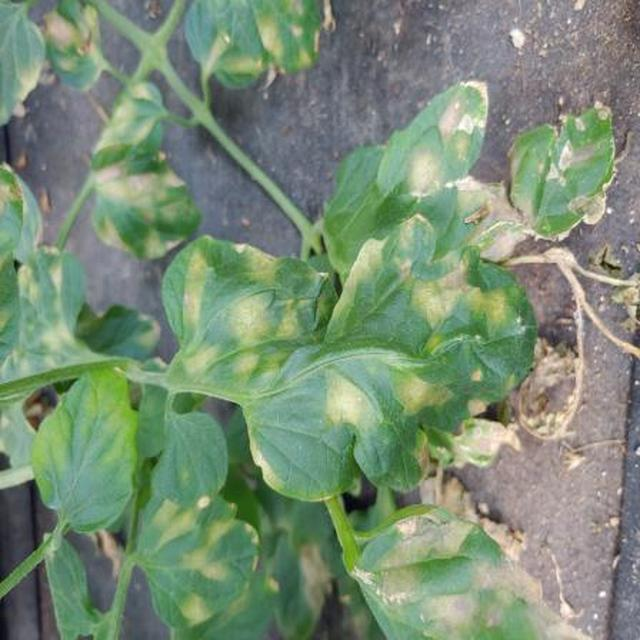Leaf Mold: (121, 168, 532, 640)
